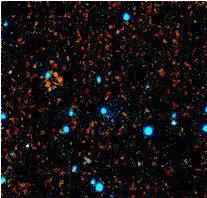star: (37, 60, 67, 90)
